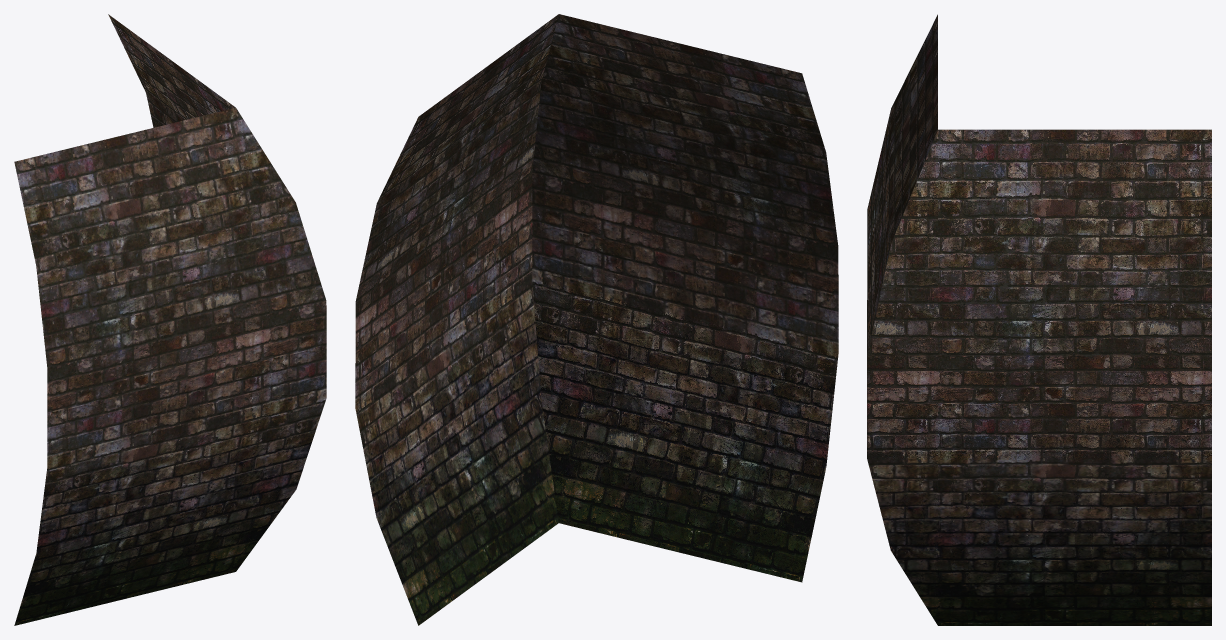
Rendered from wall_corner_concave.DAE.
The picture shows the model from 3 angles, left to right: view 1: azimuth 30°, elevation 25°; view 2: azimuth 150°, elevation 25°; view 3: azimuth 270°, elevation 25°; orthographic projection. The views are drawn at different scales.
Visible parts, largest first — view 1: wall01_corner_concave; view 2: wall01_corner_concave; view 3: wall01_corner_concave.
Boxes of the visible parts, x1,y1,x2,y2 form: wall01_corner_concave: [14, 14, 326, 625]; wall01_corner_concave: [355, 14, 838, 625]; wall01_corner_concave: [867, 14, 1211, 625].
Size of the model in its own units: 2.52 by 2.52 by 4.
